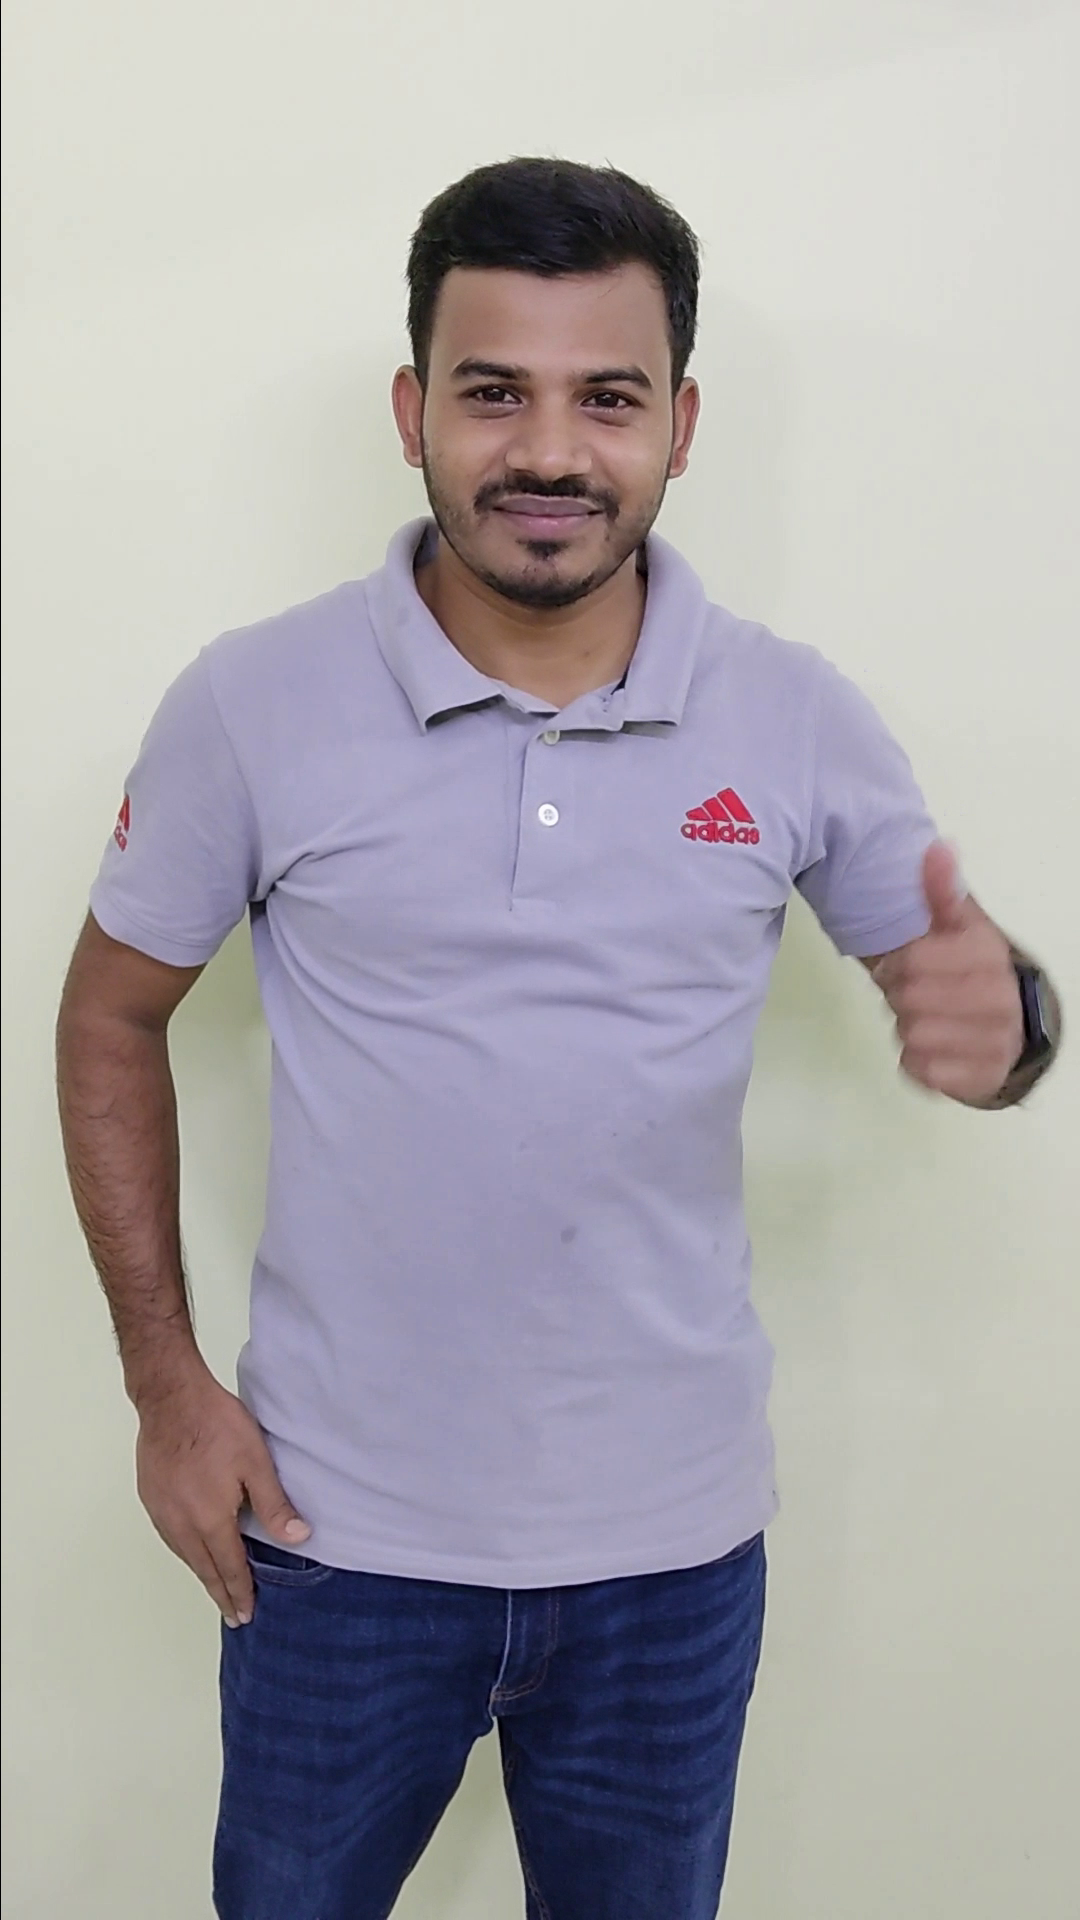Like: (852, 825, 1058, 1120)
None: (94, 1360, 318, 1650)
